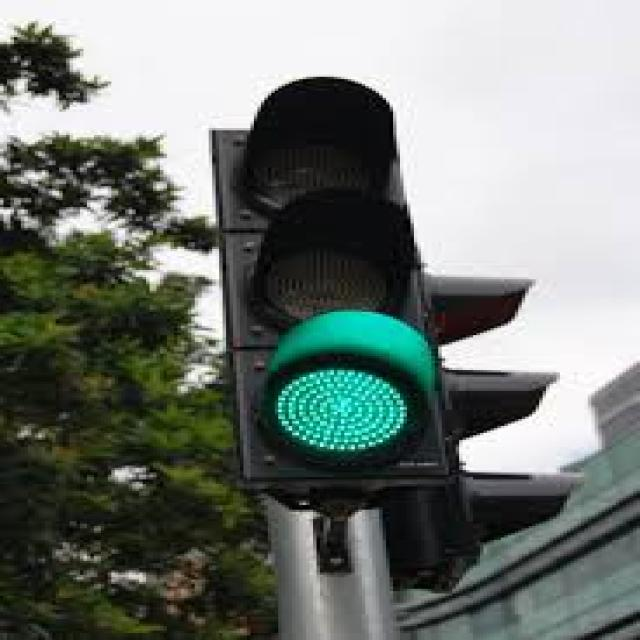green: (212, 126, 453, 486)
